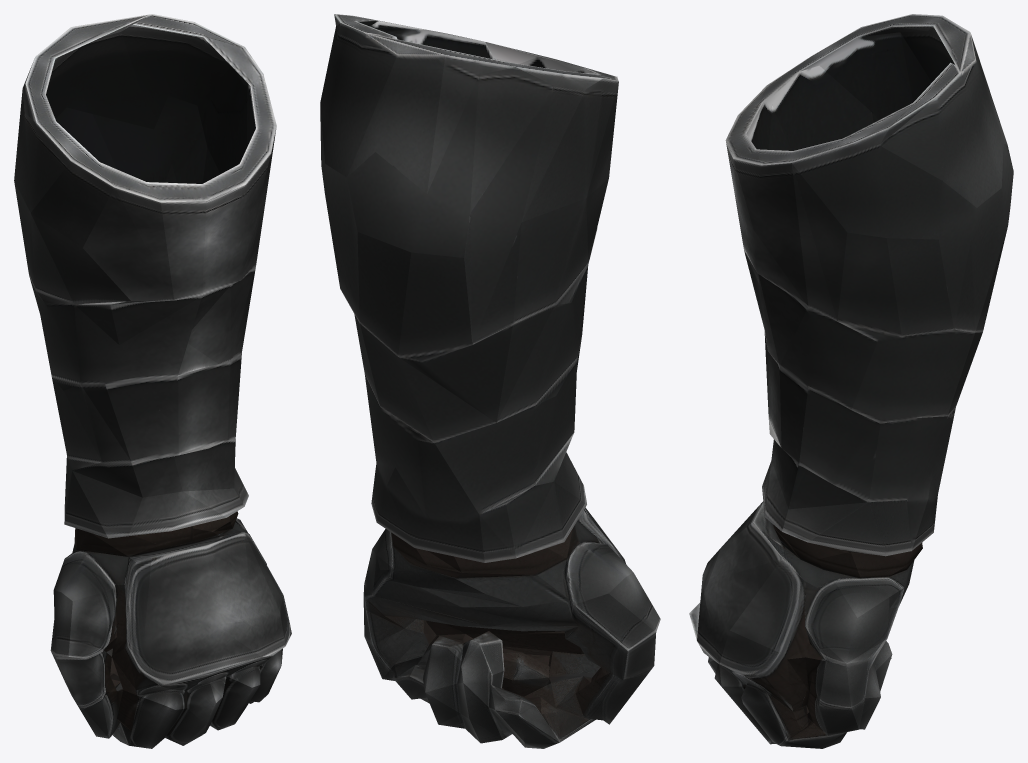
File: gauntlet.glb
3 renders of one model, left to right at view 1: azimuth 30°, elevation 25°; view 2: azimuth 150°, elevation 25°; view 3: azimuth 270°, elevation 25°, orthographic. The views are drawn at different scales.
Parts seen in each view (by area): view 1: Mesh_0; view 2: Mesh_0; view 3: Mesh_0.
Part boxes in pixels (x1,y1,x2,y2): Mesh_0: (14,14,291,748); Mesh_0: (320,14,660,748); Mesh_0: (689,14,1013,748).
Bounding box in the file's own units: 0.725 × 1.89 × 0.812.
Materials: 1 (1 with a texture image).
